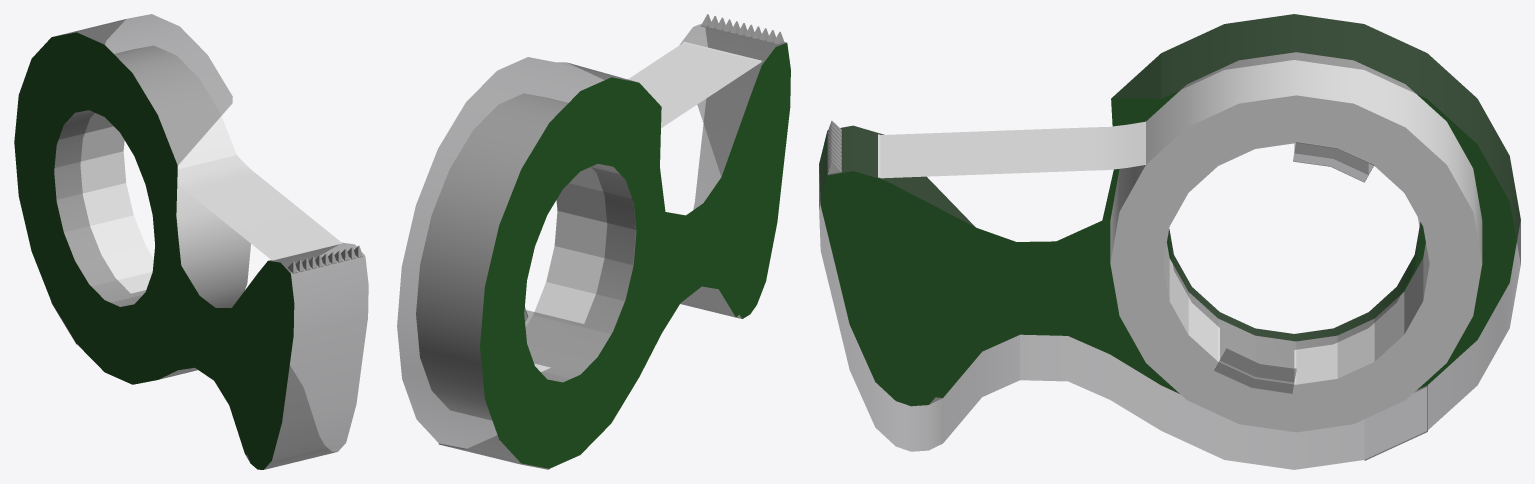
Rendered from tape.fbx.
3 renders of one model, left to right at view 1: azimuth 30°, elevation 25°; view 2: azimuth 150°, elevation 25°; view 3: azimuth 270°, elevation 25°, orthographic. The views are drawn at different scales.
Visible parts, largest first — view 1: Tape1; view 2: Tape1; view 3: Tape1.
Part boxes in pixels (x1,y1,x2,y2): Tape1: (14, 14, 368, 469); Tape1: (397, 14, 790, 469); Tape1: (819, 14, 1520, 469).
Bounding box in the file's own units: 0.2021 × 0.7951 × 1.23.
